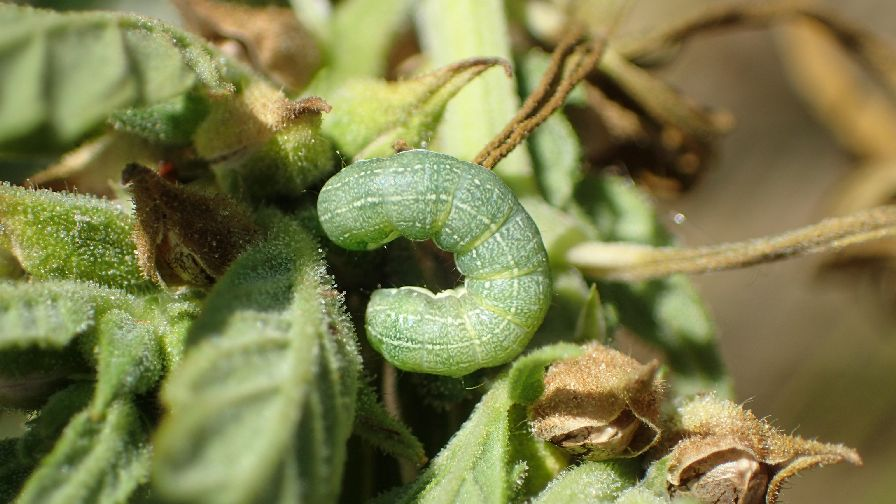Armyworm: (310, 139, 570, 379)
